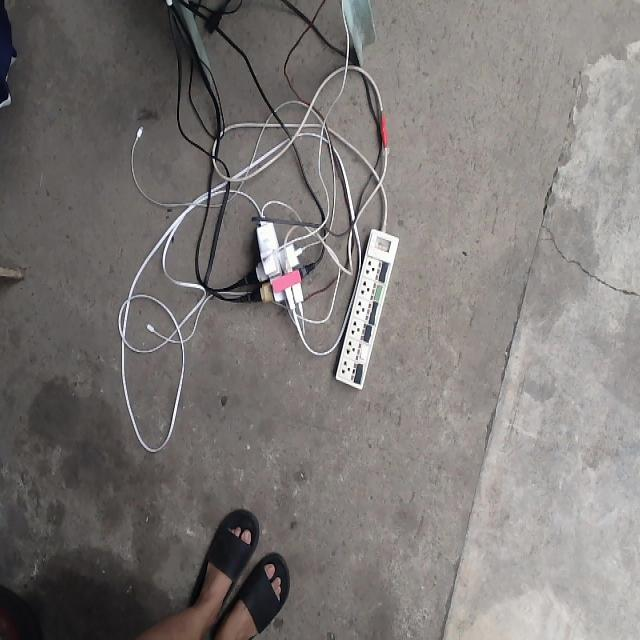-: (215, 179, 328, 345)
